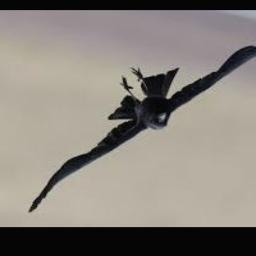Crow: (27, 41, 256, 214)
